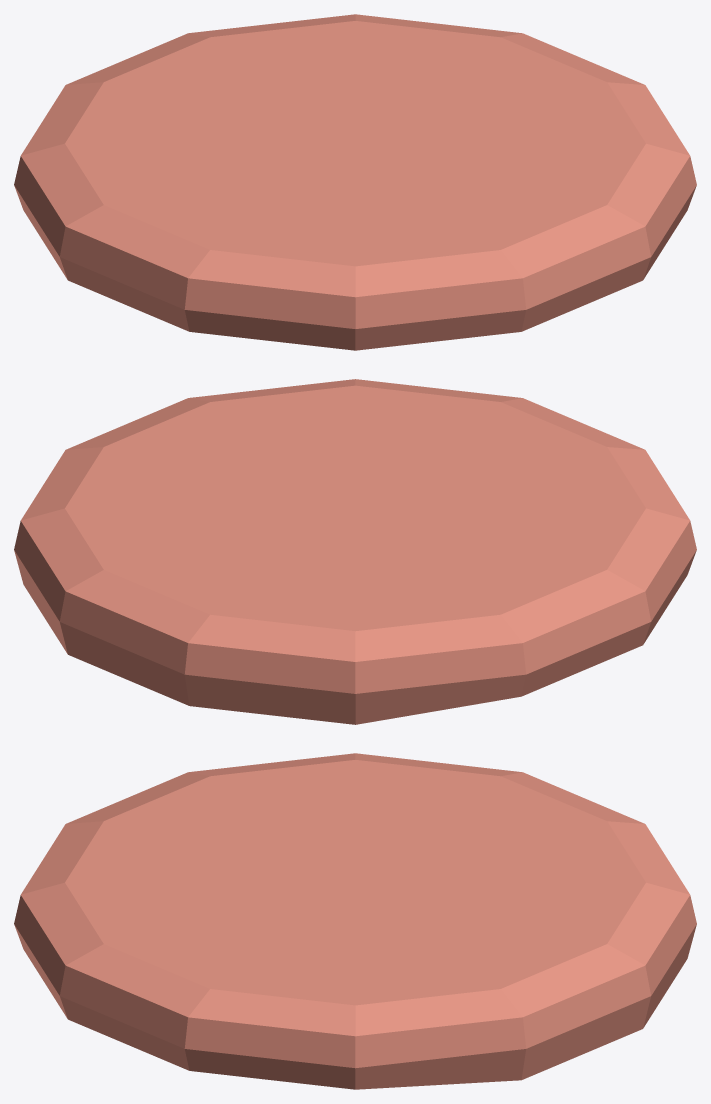
The model's file is pattyUncooked.fbx.
3 views of the same model, one above another, from view 1: azimuth 30°, elevation 25°; view 2: azimuth 150°, elevation 25°; view 3: azimuth 270°, elevation 25° (orthographic).
Visible parts, largest first — view 1: Cylinder; view 2: Cylinder; view 3: Cylinder.
Boxes of the visible parts, bbox=[...] form: Cylinder: bbox=[14, 14, 696, 350]; Cylinder: bbox=[14, 379, 696, 724]; Cylinder: bbox=[14, 753, 696, 1089].
Size of the model in its own units: 189 by 25.31 by 189.
